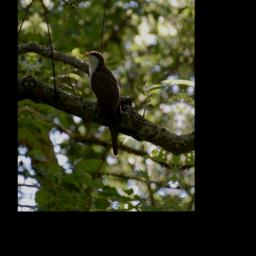Cuckoo: (69, 48, 132, 159)
